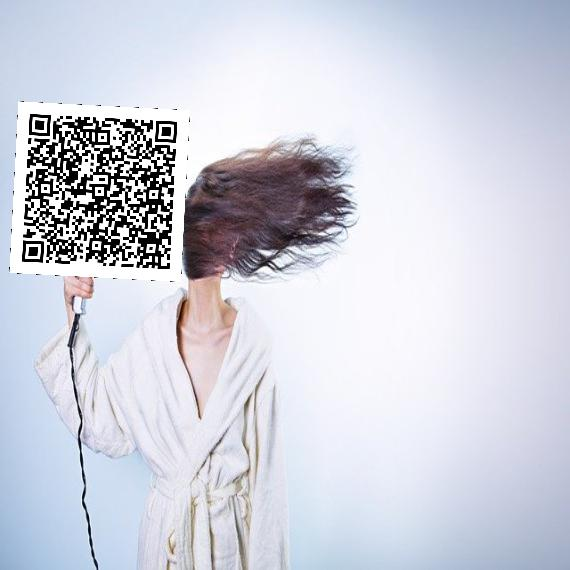qr_code: (9, 101, 189, 281)
